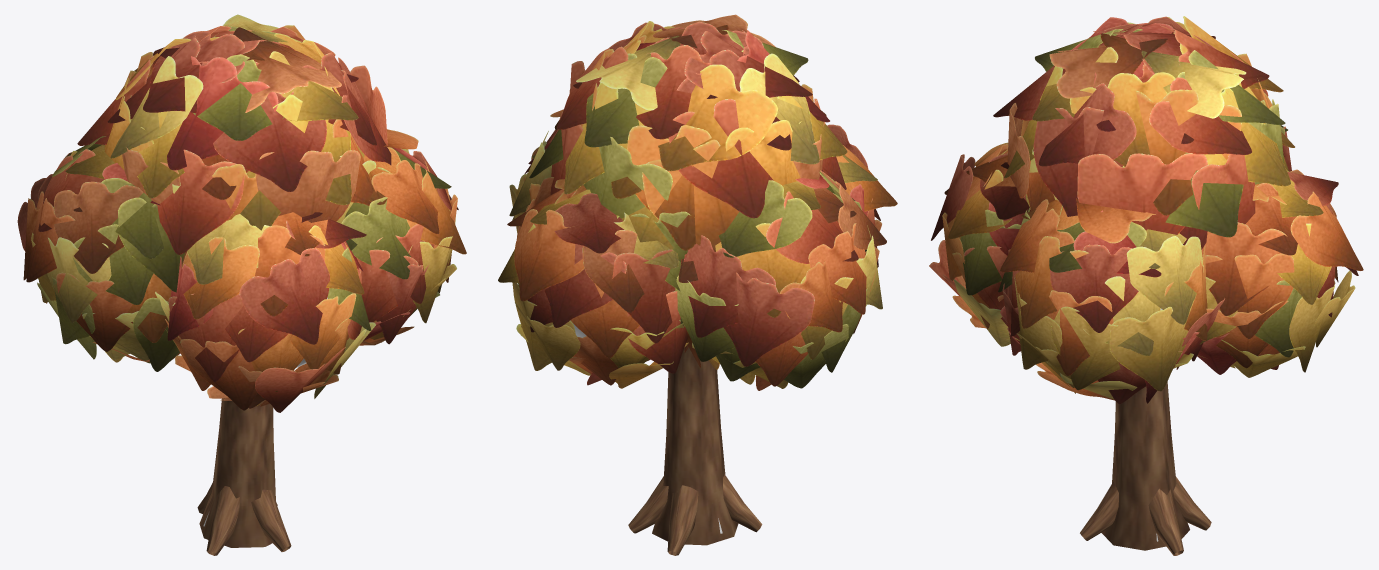
Rendered from tree-round-autumn.glb.
3 views of the same model, side by side, from view 1: azimuth 30°, elevation 25°; view 2: azimuth 150°, elevation 25°; view 3: azimuth 270°, elevation 25° (orthographic).
Visible parts, largest first — view 1: Crown, Trunk; view 2: Crown, Trunk; view 3: Crown, Trunk.
Boxes of the visible parts, x1,y1,x2,y2 form: Crown: [17, 14, 466, 412]; Trunk: [197, 398, 291, 555]; Crown: [498, 14, 897, 390]; Trunk: [628, 347, 762, 555]; Crown: [929, 16, 1363, 403]; Trunk: [1080, 381, 1211, 555].
Bounding box in the file's own units: 2.69 × 3.34 × 2.62.
3 materials, 2 textured.
